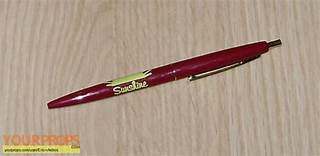pen: (38, 32, 287, 107)
